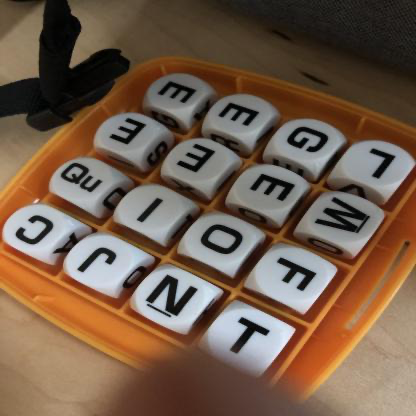c: (5, 206, 70, 256)
e: (235, 167, 302, 212), (165, 139, 231, 184), (98, 114, 160, 155), (211, 97, 270, 136), (149, 76, 209, 114)
f: (255, 249, 329, 301)
g: (273, 119, 337, 162)
i: (121, 187, 188, 233)
j: (70, 237, 134, 287)
l: (342, 142, 411, 190)
n: (136, 270, 210, 327)
o: (185, 216, 255, 263)
qu: (51, 158, 118, 205)
t: (210, 310, 284, 366)
w: (309, 196, 383, 246)
